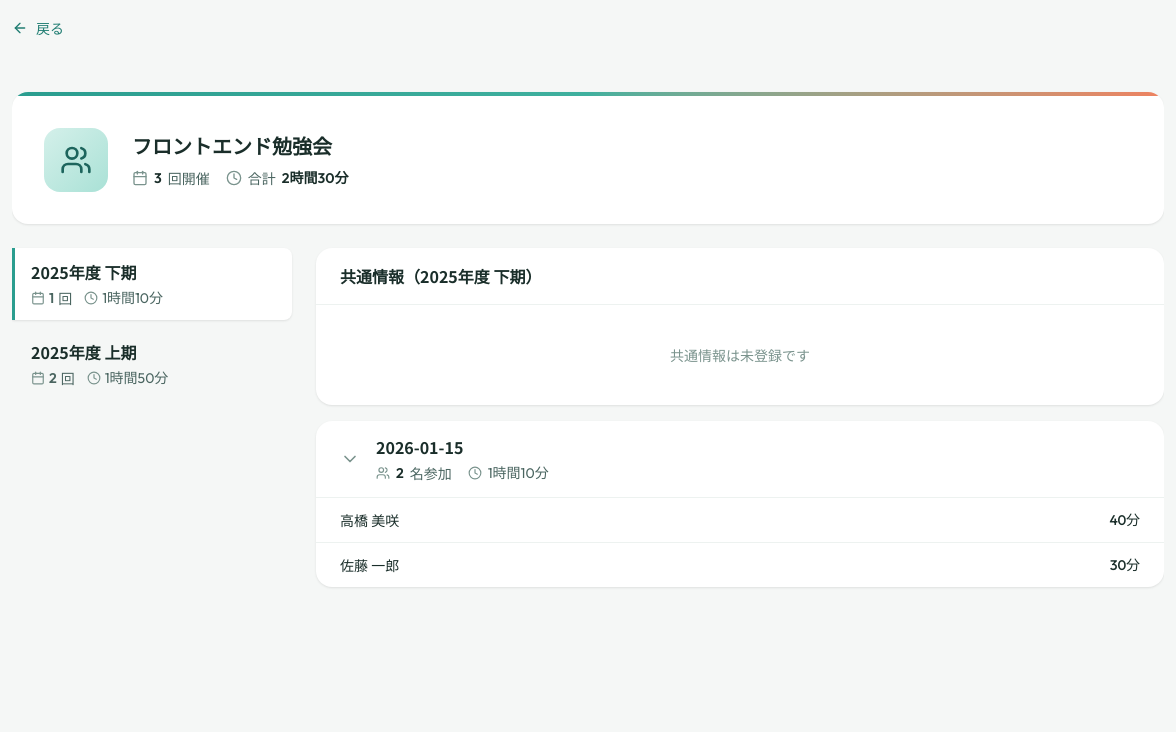
Scenario: GroupDetailPage › 期別表示 › 期を切り替えるとその期のセッションが表示されること
Expected: the heading "フロントエンド勉強会" is shown, top-left (132, 132), bottom-right (348, 160)
// 上期ボタンをクリック
What coordinates should you click on to do the following:
click the button "2025年度 上期 2 回 1時間50分"
I would click on:
 (84, 352)
Its box is top-left (12, 328), bottom-right (292, 400).
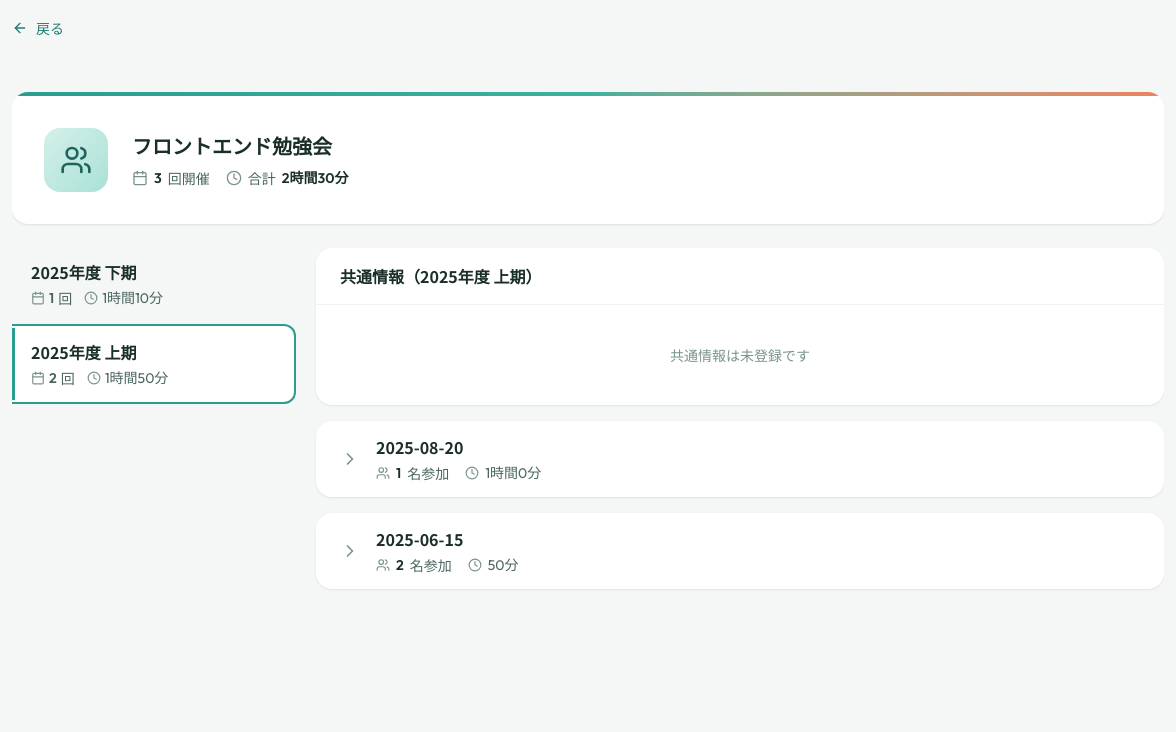
Expected: the text "2025-08-20" is shown, top-left (376, 435), bottom-right (463, 459)
Expected: the text "2025-06-15" is shown, top-left (376, 527), bottom-right (463, 551)
